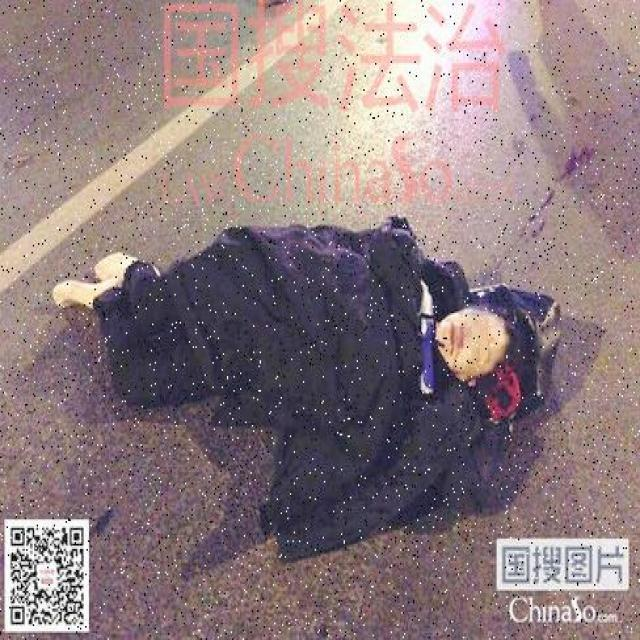fall: (44, 224, 544, 462)
